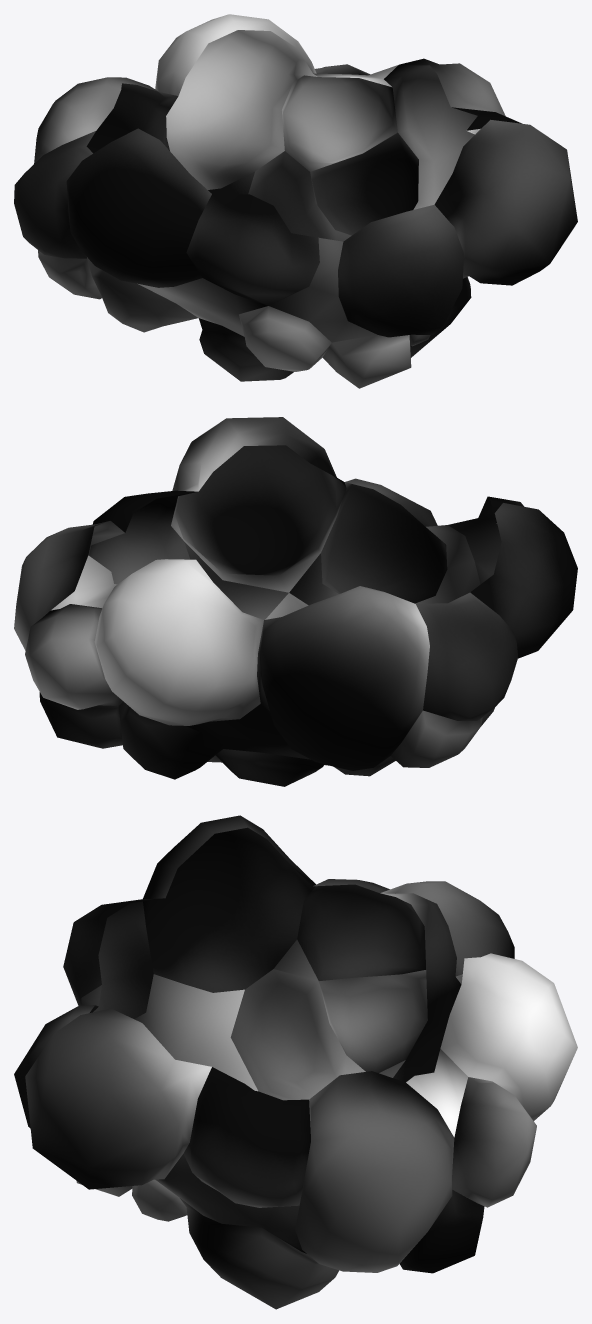
Rendered from p_mesh_weather_lightningclouds01.fbx.
The picture shows the model from 3 angles, top to bottom: view 1: azimuth 30°, elevation 25°; view 2: azimuth 150°, elevation 25°; view 3: azimuth 270°, elevation 25°; orthographic projection. The views are drawn at different scales.
Parts seen in each view (by area): view 1: Mball.036; view 2: Mball.036; view 3: Mball.036.
Part boxes in pixels (box(x1,y1,x2,y2)): Mball.036: box(14, 14, 577, 388); Mball.036: box(14, 417, 577, 786); Mball.036: box(14, 815, 577, 1309).
Bounding box in the file's own units: 14.9 × 8.81 × 13.83.
Materials: 1 (1 with a texture image).
